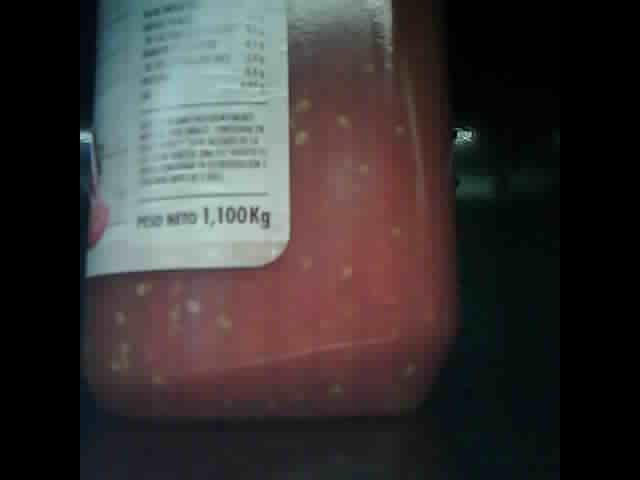tomate: (83, 2, 456, 419)
